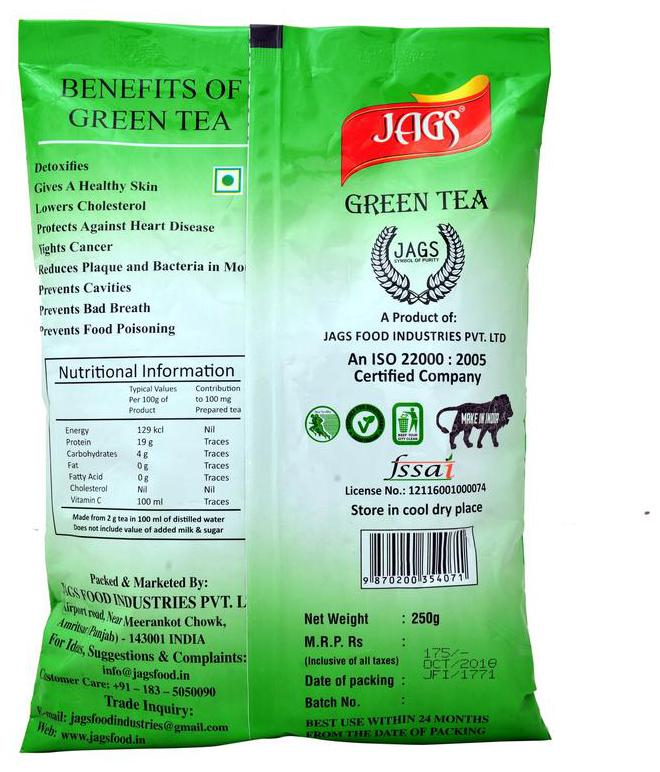fssai: (383, 454, 454, 480)
